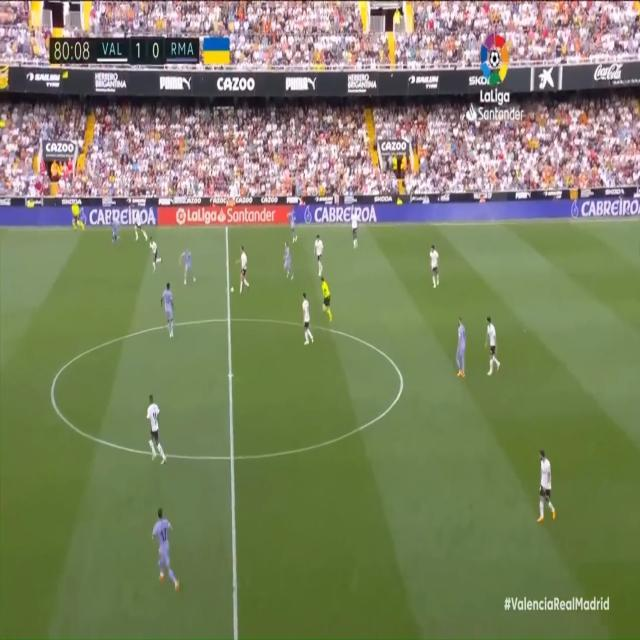ball: (230, 284, 235, 296)
player: (150, 502, 181, 593), (536, 447, 561, 527), (144, 391, 168, 466), (484, 313, 503, 379), (160, 282, 179, 343), (425, 245, 445, 291), (178, 245, 197, 291), (456, 315, 469, 381), (129, 205, 150, 242), (285, 206, 302, 250), (299, 292, 313, 345), (236, 242, 249, 297), (148, 231, 165, 273), (313, 232, 326, 279), (349, 208, 363, 250), (281, 241, 295, 283), (108, 211, 121, 242)
referee: (317, 272, 333, 328), (68, 197, 88, 234)
